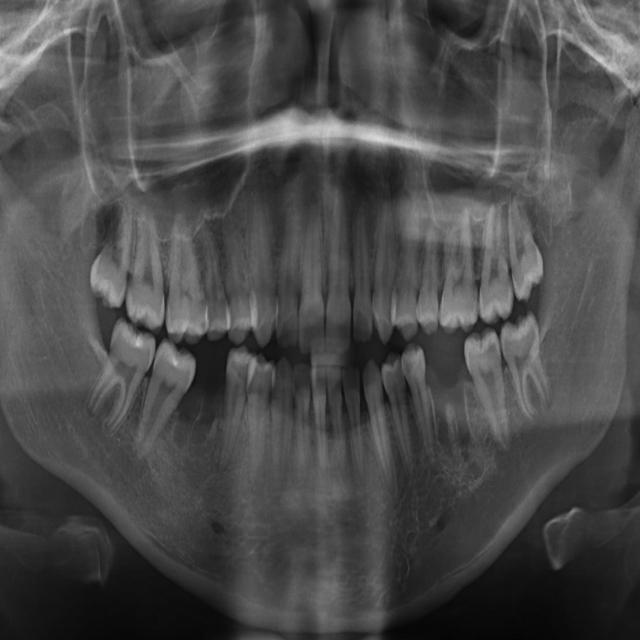3M ESPE Implant: (84, 196, 141, 311)
AGS Medikal Implant: (505, 441, 505, 442)
Amalgam filling: (123, 200, 169, 335)
Anthogyr Implant: (399, 339, 448, 466)
Bicon Implant: (376, 350, 428, 485)
BioHorizons Implant: (360, 358, 397, 498)
BioLife Implant: (341, 364, 369, 489)
Biomet 3i Implant: (325, 362, 350, 468)
Blue Sky Bio Implant: (309, 362, 333, 471)
Camlog Implant: (293, 360, 313, 480)
Caries: (352, 207, 375, 343)
Composite filling: (268, 357, 295, 504)
Cowellmedi Implant: (236, 350, 276, 492)
Crown: (203, 342, 257, 475)
DENTSPLY Implant: (161, 212, 205, 346)
Dentis Implant: (132, 335, 201, 462)
Dentium Implant: (81, 314, 163, 440)
Euroteknika Implant: (198, 224, 231, 343)
Filling: (220, 212, 257, 345)
Frontier Implant: (241, 188, 281, 348)
Hiossen Implant: (370, 177, 399, 347)
Implant: (298, 189, 326, 358)
Implant Direct: (276, 204, 298, 349)
Keystone Dental Implant: (323, 179, 359, 359)
MIS Implant: (391, 200, 421, 342)
Mandible: (416, 209, 439, 335)
Maxilla: (437, 202, 478, 334)
Megagen Implant: (479, 200, 513, 324)
Neodent Implant: (500, 188, 548, 305)
Neoss Implant: (495, 309, 555, 427)
